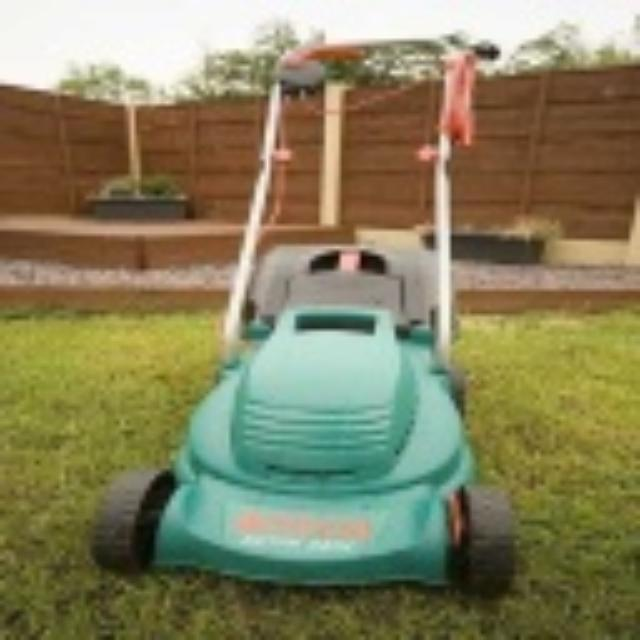Rotary-Mower: (84, 30, 520, 590)
